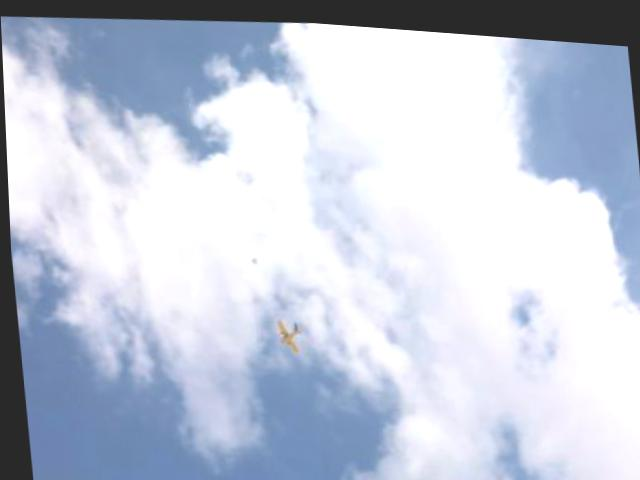uav: (273, 312, 301, 351)
